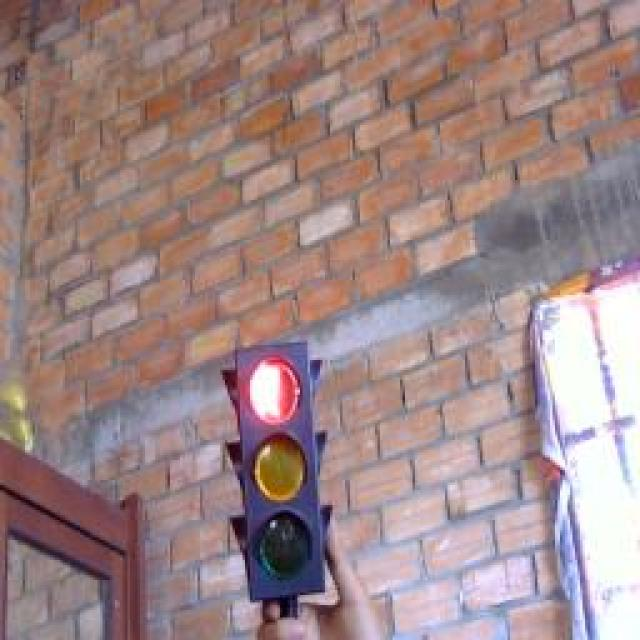-: (245, 352, 310, 430)
